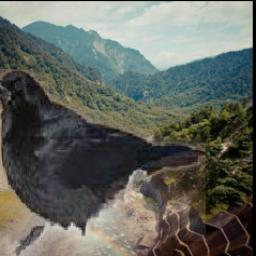Crow: (0, 69, 206, 256)
